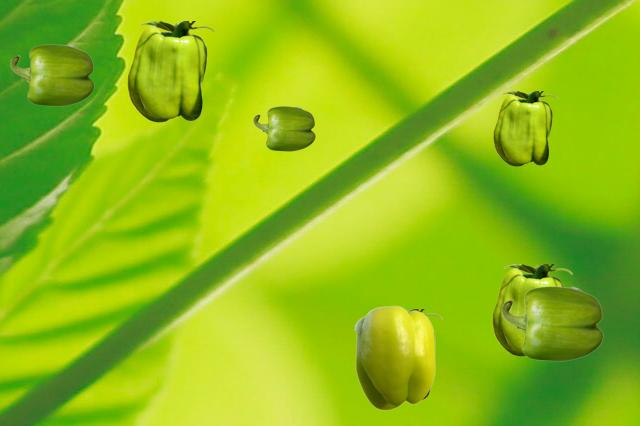bell_pepper: (127, 21, 214, 121), (354, 305, 434, 409), (501, 286, 602, 360), (492, 264, 571, 355), (10, 44, 93, 105), (493, 91, 557, 165), (408, 309, 441, 400), (253, 106, 314, 150)
